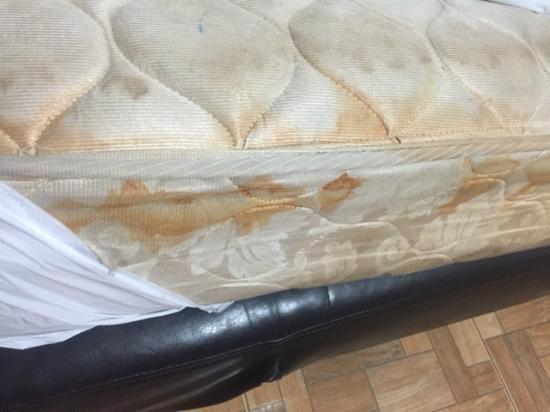Bed-Mattress: (0, 0, 550, 315)
